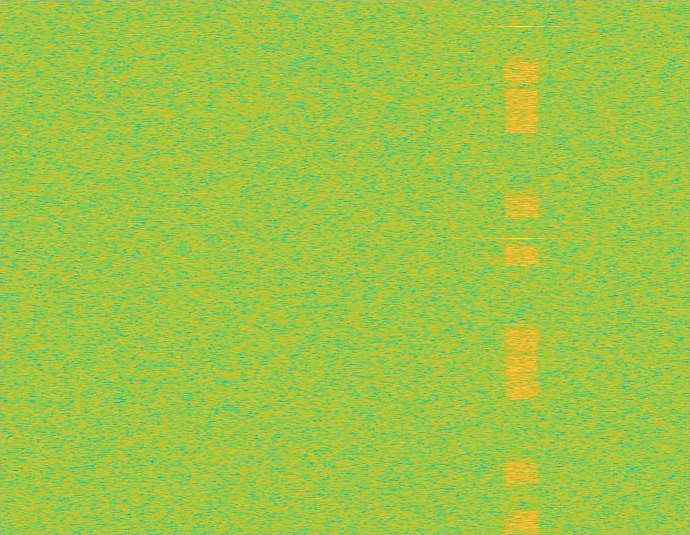LTE: (505, 0, 539, 534)
Radar: (514, 0, 528, 534)
